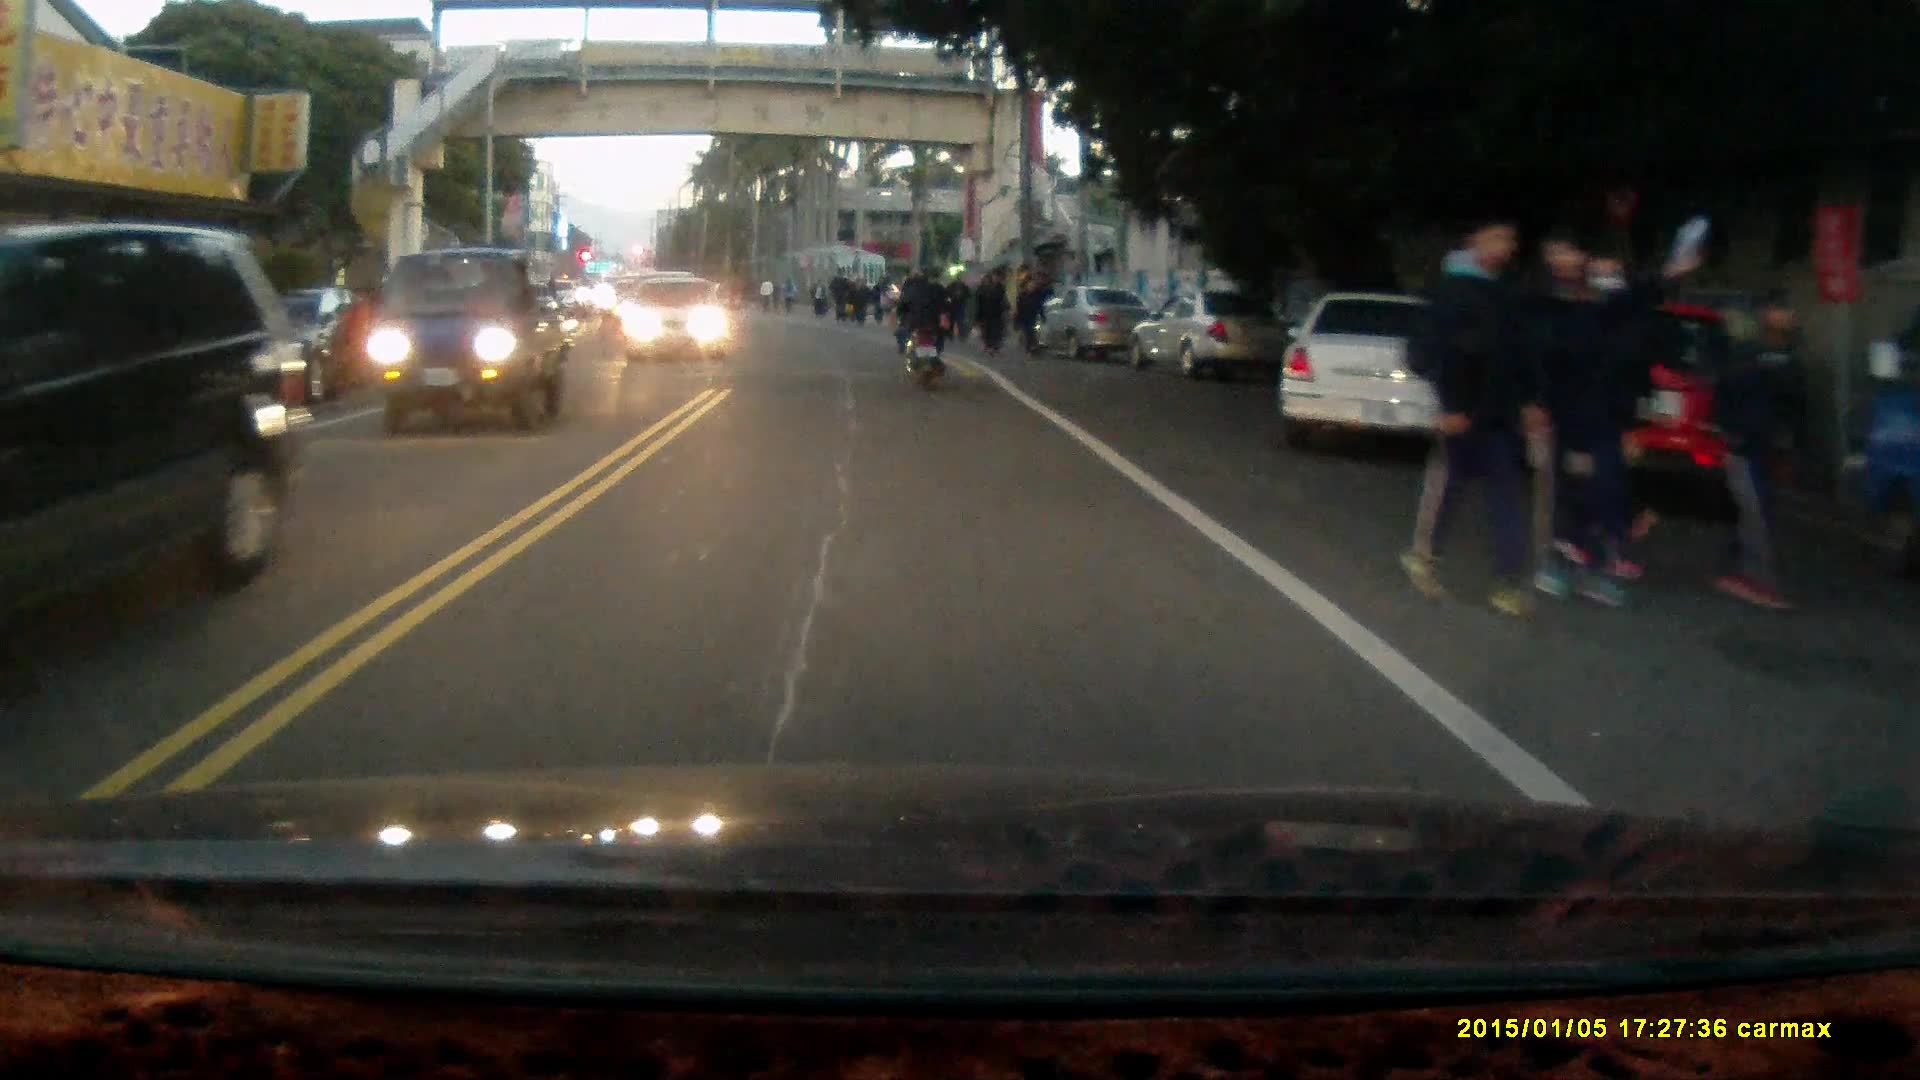pedestrian: (1396, 198, 1556, 618), (1530, 220, 1698, 611), (1704, 284, 1813, 614), (982, 261, 1011, 351), (974, 275, 1002, 361), (1014, 279, 1042, 354), (945, 272, 969, 345)
rider: (885, 262, 950, 390)
vehicle: (1, 219, 316, 630), (364, 248, 583, 440), (1279, 289, 1498, 452), (1136, 289, 1284, 387), (1032, 289, 1159, 365), (625, 280, 728, 363)
